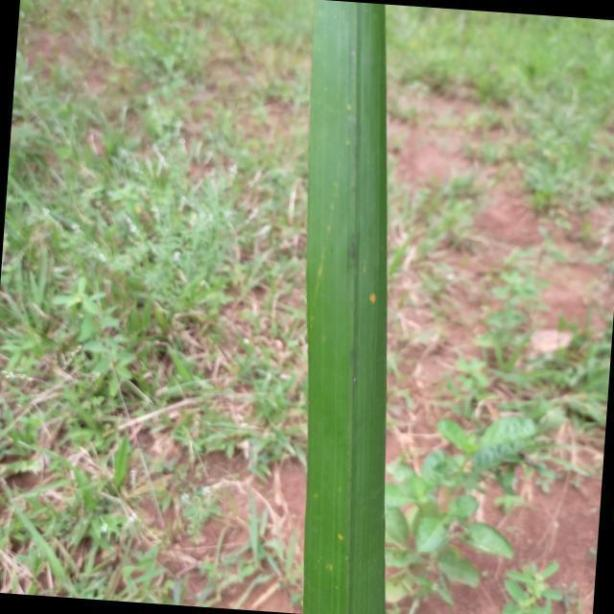Kalium: (302, 0, 390, 614)
